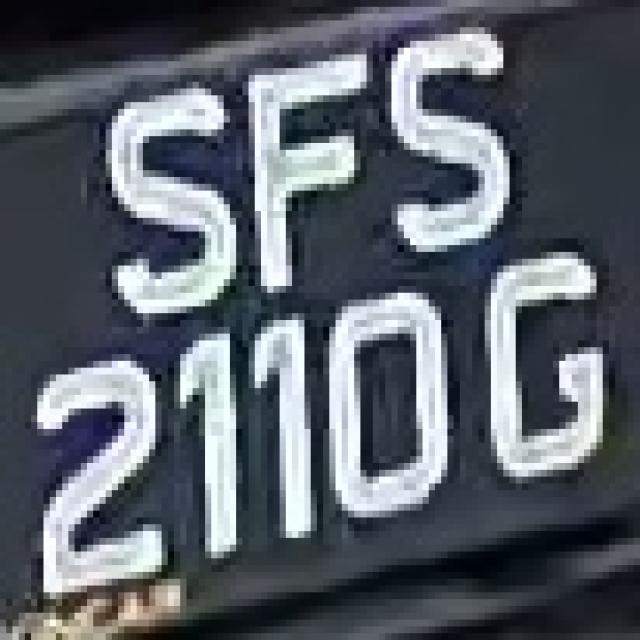0: (304, 286, 460, 517)
1: (242, 279, 323, 572), (180, 320, 261, 565)
2: (19, 361, 174, 606)
F: (230, 61, 404, 279)
G: (478, 225, 622, 497)
S: (366, 13, 546, 258), (87, 82, 242, 320)
